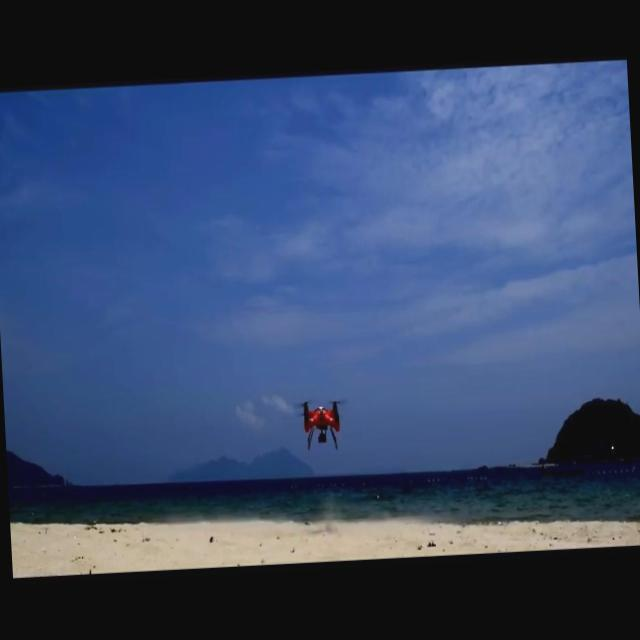drone: (300, 397, 347, 452)
